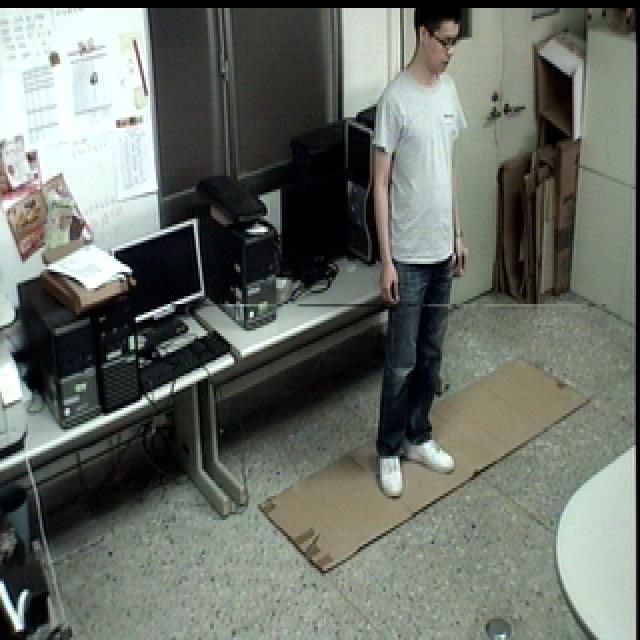stand: (356, 0, 474, 499)
